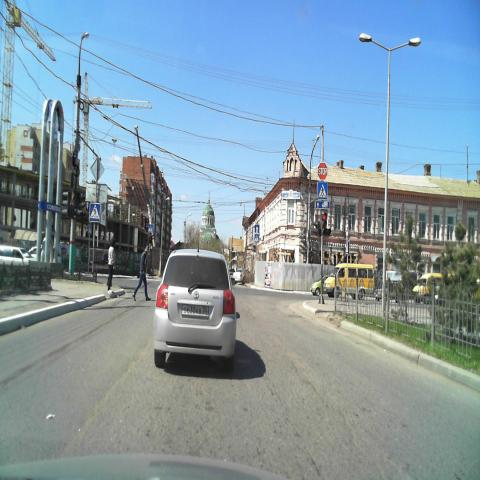2_5: (317, 163, 328, 180)
